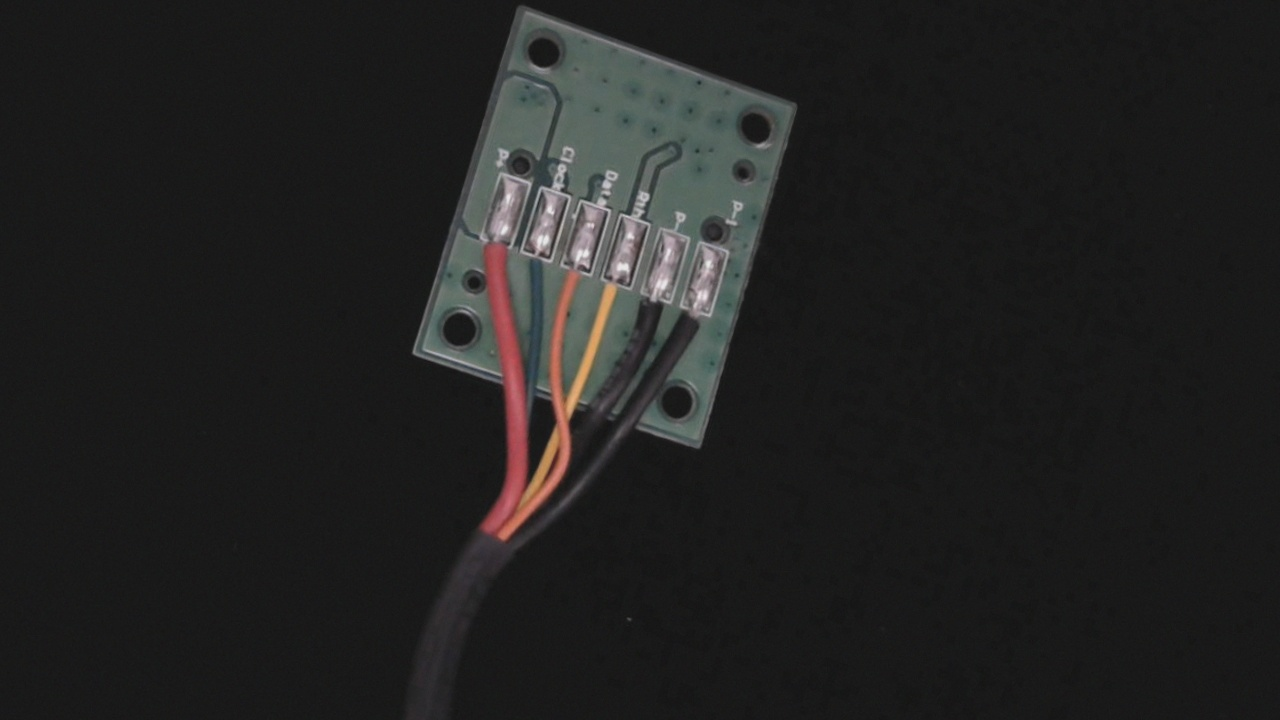Black: (619, 277, 679, 356)
Black1: (661, 291, 719, 373)
Green: (506, 233, 561, 311)
Orange: (540, 247, 599, 335)
Red: (458, 219, 518, 305)
Yellow: (583, 261, 639, 340)
